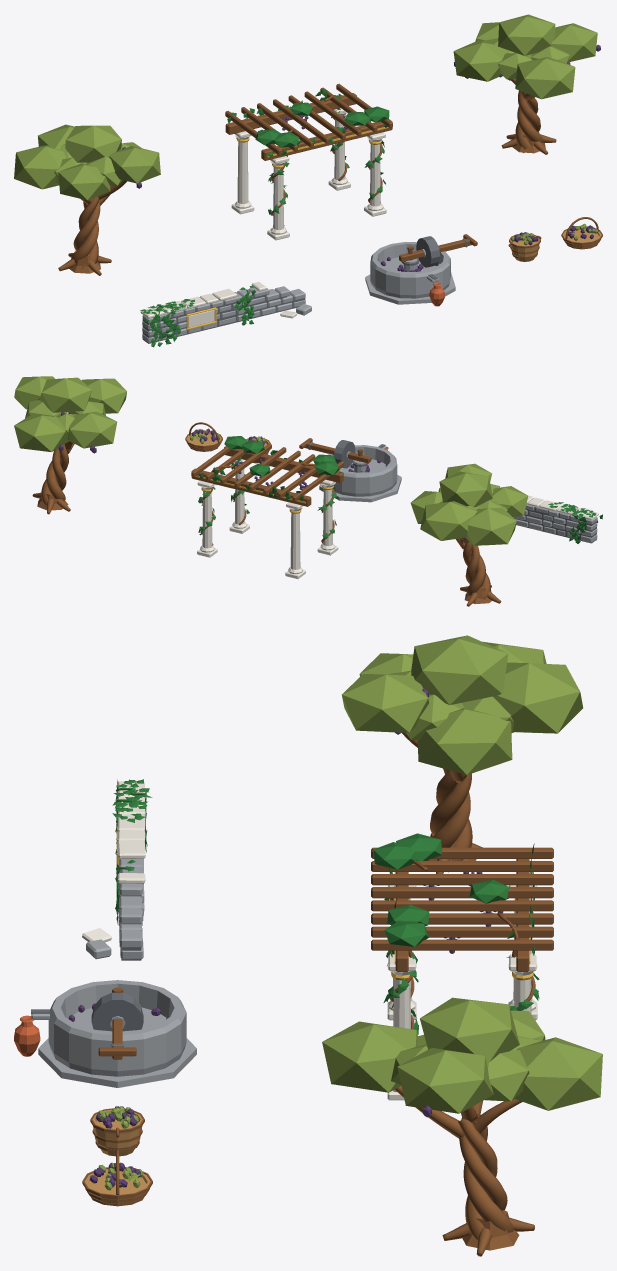
Rendered from olive-grove-set.glb.
3 views of the same model, one above another, from view 1: azimuth 30°, elevation 25°; view 2: azimuth 150°, elevation 25°; view 3: azimuth 270°, elevation 25° (orthographic). The views are drawn at different scales.
Visible parts, largest first — view 1: Pergola, OliveTree_B, OliveTree_A, StoneWall, OlivePress_Base, Basket_Olives_Low, Basket_Olives_Tall, Wheel, Arm; view 2: Pergola, OliveTree_B, OliveTree_A, OlivePress_Base, StoneWall, Basket_Olives_Low, Arm, Wheel; view 3: OliveTree_B, OliveTree_A, Pergola, OlivePress_Base, StoneWall, Basket_Olives_Low, Basket_Olives_Tall, Wheel.
Boxes of the visible parts, x1,y1,x2,y2 form: Pergola: [225, 83, 392, 240]; OliveTree_B: [453, 14, 600, 154]; OliveTree_A: [14, 124, 160, 275]; StoneWall: [140, 281, 311, 347]; OlivePress_Base: [365, 242, 455, 306]; Basket_Olives_Low: [561, 217, 602, 249]; Basket_Olives_Tall: [508, 232, 541, 261]; Wheel: [416, 236, 440, 267]; Arm: [399, 234, 477, 261]; Pergola: [191, 436, 343, 578]; OliveTree_B: [14, 376, 126, 514]; OliveTree_A: [410, 463, 528, 606]; OlivePress_Base: [319, 444, 401, 502]; StoneWall: [513, 495, 602, 543]; Basket_Olives_Low: [185, 422, 222, 451]; Arm: [299, 438, 370, 463]; Wheel: [333, 440, 355, 468]; OliveTree_B: [322, 997, 602, 1256]; OliveTree_A: [341, 635, 583, 873]; Pergola: [371, 833, 553, 1100]; OlivePress_Base: [14, 980, 196, 1087]; StoneWall: [82, 779, 152, 960]; Basket_Olives_Low: [82, 1149, 152, 1206]; Basket_Olives_Tall: [90, 1106, 144, 1156]; Wheel: [91, 992, 143, 1031].
Size of the model in its own units: 63.7 by 15.14 by 34.16.
